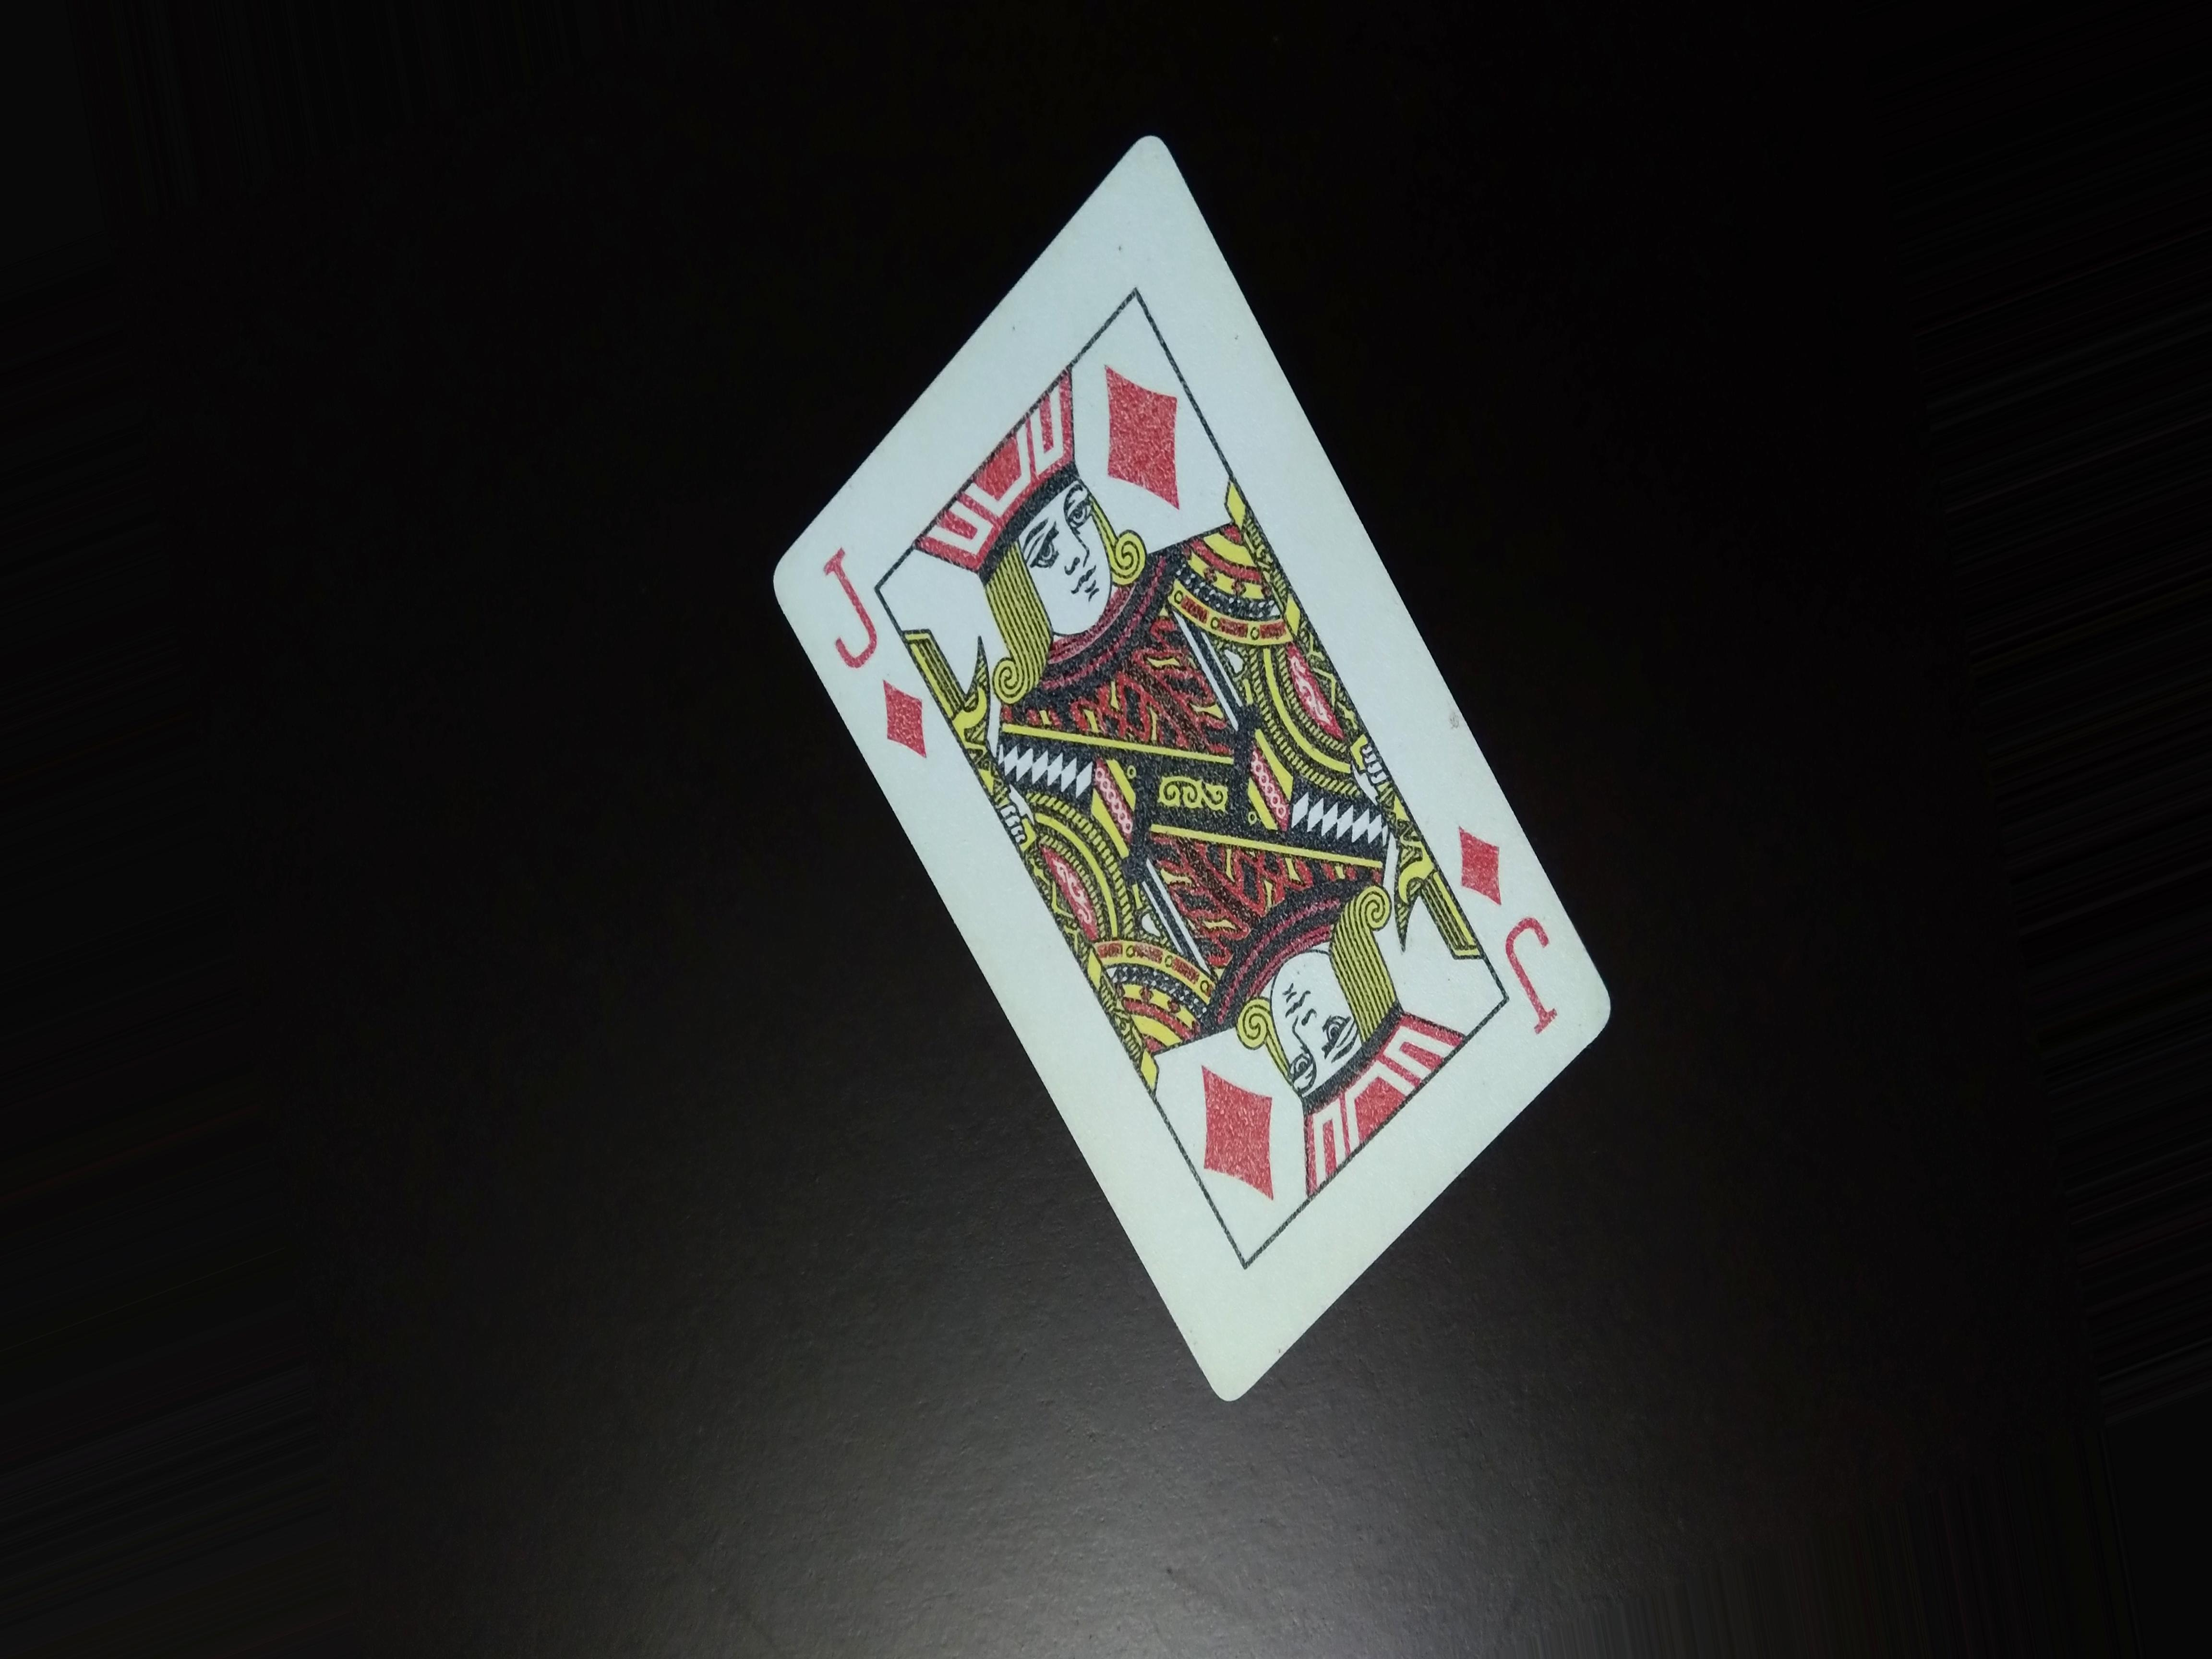JD: (820, 538, 925, 774)
